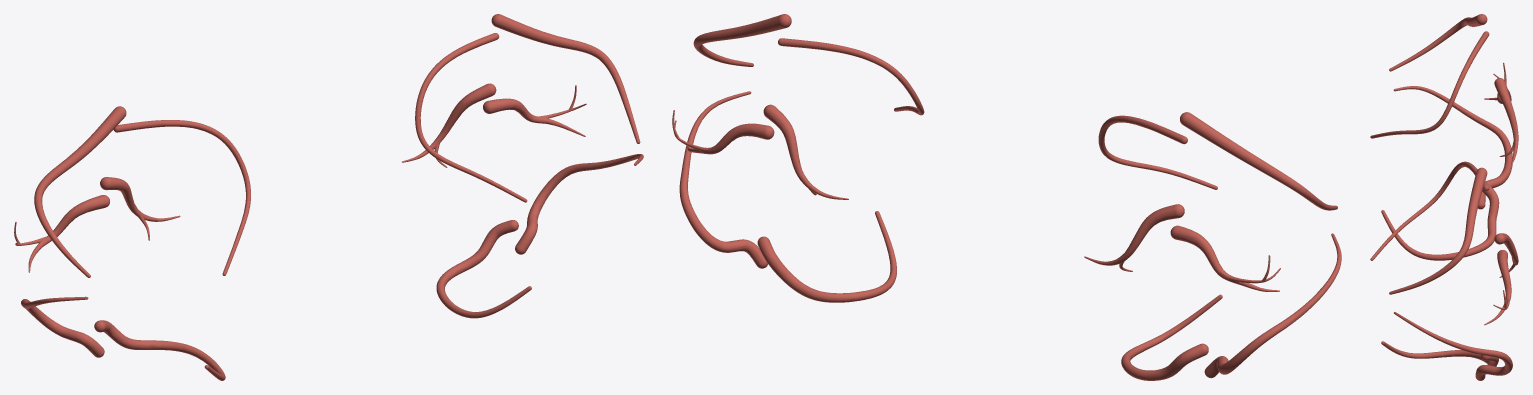
File: genicular-arteries.glb
3 views of the same model, side by side, from view 1: azimuth 30°, elevation 25°; view 2: azimuth 150°, elevation 25°; view 3: azimuth 270°, elevation 25° (orthographic). The views are drawn at different scales.
Parts seen in each view (by area): view 1: FMA22563, FMA22588, FMA22589, FMA22562, FMA43891, FMA22587, FMA22586, FMA43893, FMA43890, FMA43892; view 2: FMA22562, FMA22563, FMA43891, FMA43893, FMA22588, FMA43890, FMA43892, FMA22589, FMA22586, FMA22587; view 3: FMA22589, FMA43890, FMA43892, FMA43893, FMA22563, FMA22586, FMA22562, FMA22587, FMA43891, FMA22588.
Part boxes in pixels (x1,y1,x2,y2): FMA22563: (402, 83, 586, 167); FMA22588: (34, 106, 126, 277); FMA22589: (491, 14, 640, 143); FMA22562: (14, 177, 180, 272); FMA43891: (436, 220, 531, 318); FMA22587: (415, 33, 527, 202); FMA22586: (113, 120, 250, 275); FMA43893: (515, 154, 643, 254); FMA43890: (94, 320, 225, 380); FMA43892: (21, 296, 104, 357); FMA22562: (1084, 204, 1280, 291); FMA22563: (672, 104, 848, 199); FMA43891: (757, 211, 896, 302); FMA43893: (679, 91, 767, 268); FMA22588: (1180, 112, 1337, 210); FMA43890: (1121, 294, 1222, 380); FMA43892: (1204, 233, 1341, 378); FMA22589: (693, 14, 791, 66); FMA22586: (1098, 115, 1217, 189); FMA22587: (778, 38, 924, 115); FMA22589: (1389, 167, 1487, 294); FMA43890: (1381, 183, 1499, 260); FMA43892: (1393, 86, 1512, 209); FMA43893: (1394, 312, 1512, 380); FMA22563: (1484, 233, 1518, 325); FMA22586: (1370, 31, 1489, 138); FMA22562: (1484, 62, 1518, 164); FMA22587: (1370, 161, 1489, 260); FMA43891: (1381, 341, 1498, 366); FMA22588: (1389, 14, 1487, 71).
Bounding box in the file's own units: 2.32 × 0.9633 × 0.5943.
